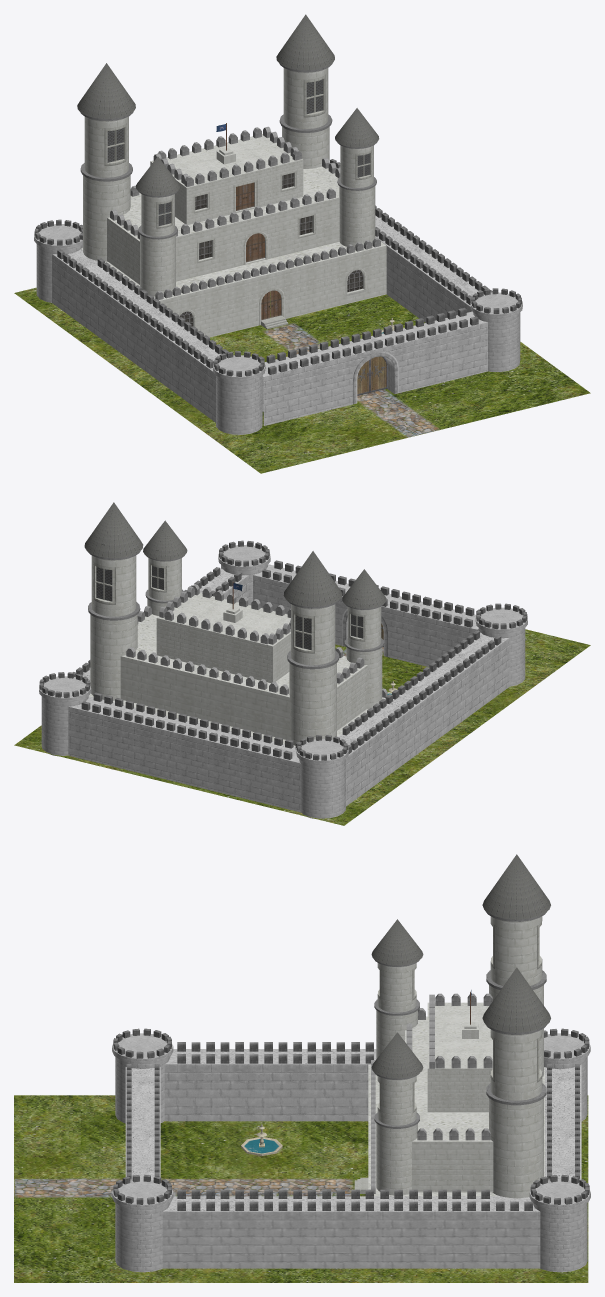
File: castle.obj
The picture shows the model from 3 angles, top to bottom: view 1: azimuth 30°, elevation 25°; view 2: azimuth 150°, elevation 25°; view 3: azimuth 270°, elevation 25°; orthographic projection. The views are drawn at different scales.
Parts seen in each view (by area): view 1: Castle_Exterior, Castle_Interior, Towers_Doors_and_Windows, Ground_and_Fountain; view 2: Castle_Exterior, Towers_Doors_and_Windows, Castle_Interior, Ground_and_Fountain; view 3: Castle_Exterior, Ground_and_Fountain, Towers_Doors_and_Windows, Castle_Interior.
Boxes of the visible parts, <box> form: Castle_Exterior: <box>34,159,522,434</box>; Castle_Interior: <box>81,123,386,337</box>; Towers_Doors_and_Windows: <box>77,14,387,395</box>; Ground_and_Fountain: <box>14,287,590,473</box>; Castle_Exterior: <box>39,540,527,818</box>; Towers_Doors_and_Windows: <box>84,502,386,745</box>; Castle_Interior: <box>89,581,387,746</box>; Ground_and_Fountain: <box>14,629,590,825</box>; Castle_Exterior: <box>112,1028,590,1272</box>; Ground_and_Fountain: <box>14,1095,588,1282</box>; Towers_Doors_and_Windows: <box>354,854,550,1198</box>; Castle_Interior: <box>368,990,544,1196</box>.
Bounding box in the file's own units: 0.5811 × 0.4026 × 0.756.
Materials: 4 (4 with a texture image).
